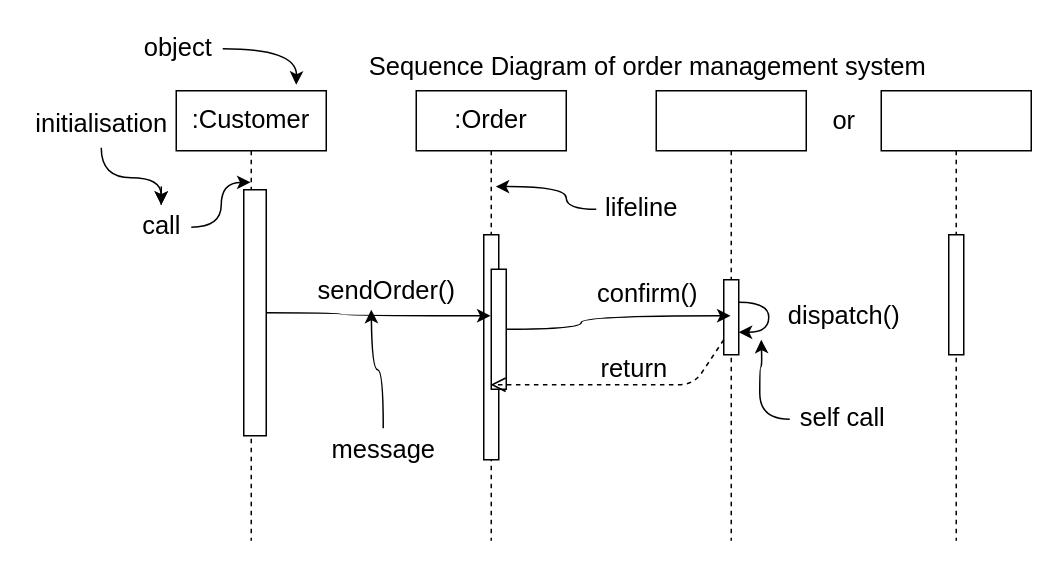
This 1059x567 diagram has some shape labels left out. The centre of each missing label's shape, as x and y in pixels:
": NormalOrder" goes at [955,315].
": SpecialOrder" goes at [730,315].
